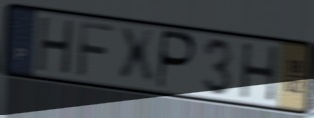3: (202, 37, 236, 98)
F: (75, 19, 117, 81)
H: (34, 15, 77, 78), (239, 41, 280, 104)
P: (154, 28, 199, 93)
X: (117, 25, 157, 87)
